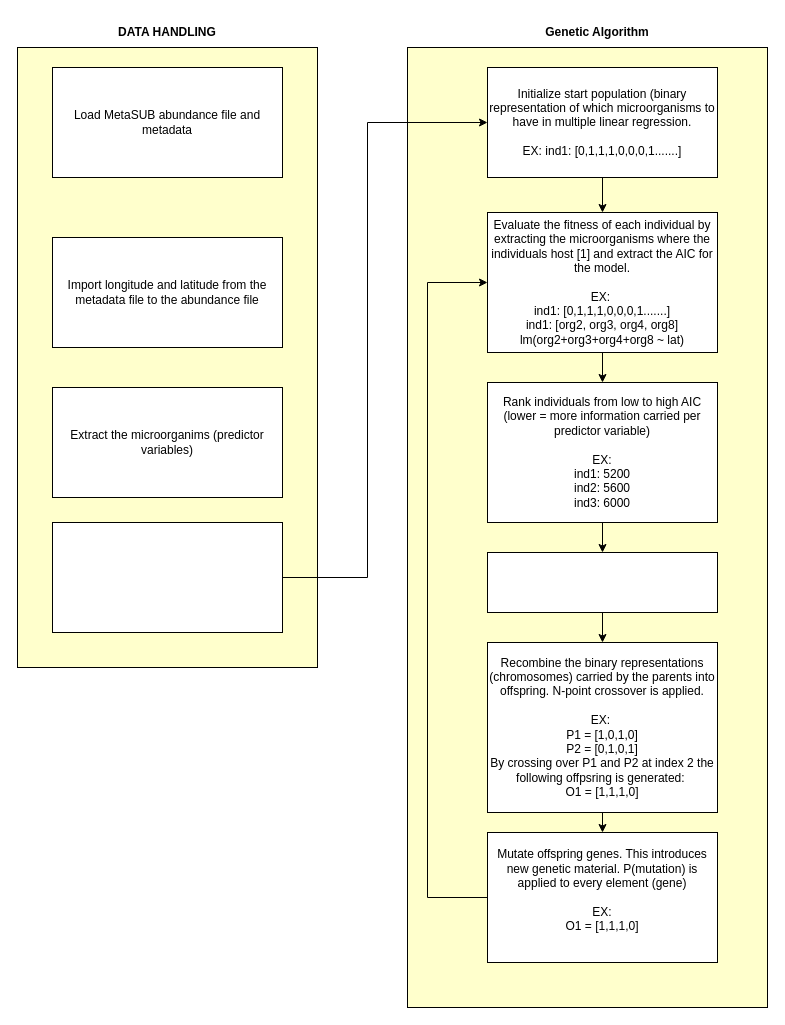
Image size: 785x1025. Some labels were removed from this diagram. Here are the shapes that lost their labels. From the top down, the centre of each, then its label:
At point 167,577: "Extract the longitude and latitude (response variables)".
At point 602,582: "Select the best individuals that will be the seed for the coming generation.".
